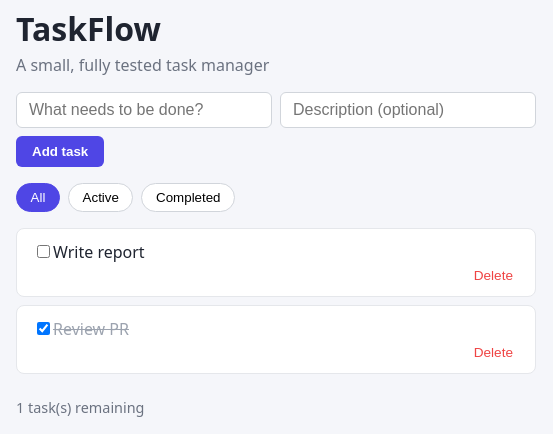
Test: App › toggling checks the box immediately, before the server responds
The width and height of the screenshot is (553, 434).
Click the checkbox with test id "task-toggle" showing "Write report": (44, 251) [37,245,50,258]
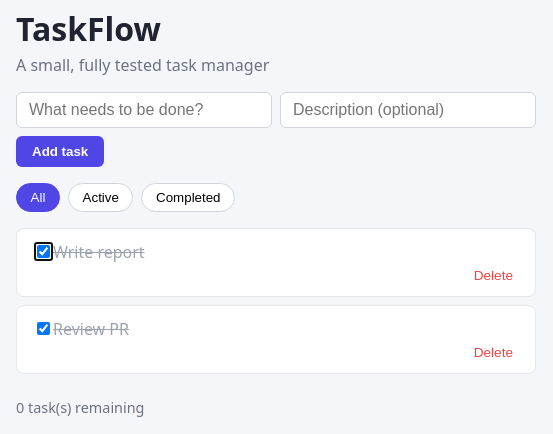
Expected: the checkbox with test id "task-toggle" showing "Write report" is checked, [37,245,50,258]
Expected: the text with test id "active-count" reads "0 task(s) remaining", [16,398,144,417]
